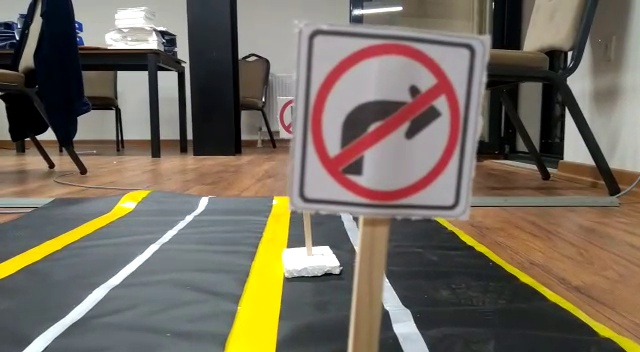saga_donulmez: (302, 28, 467, 211)
